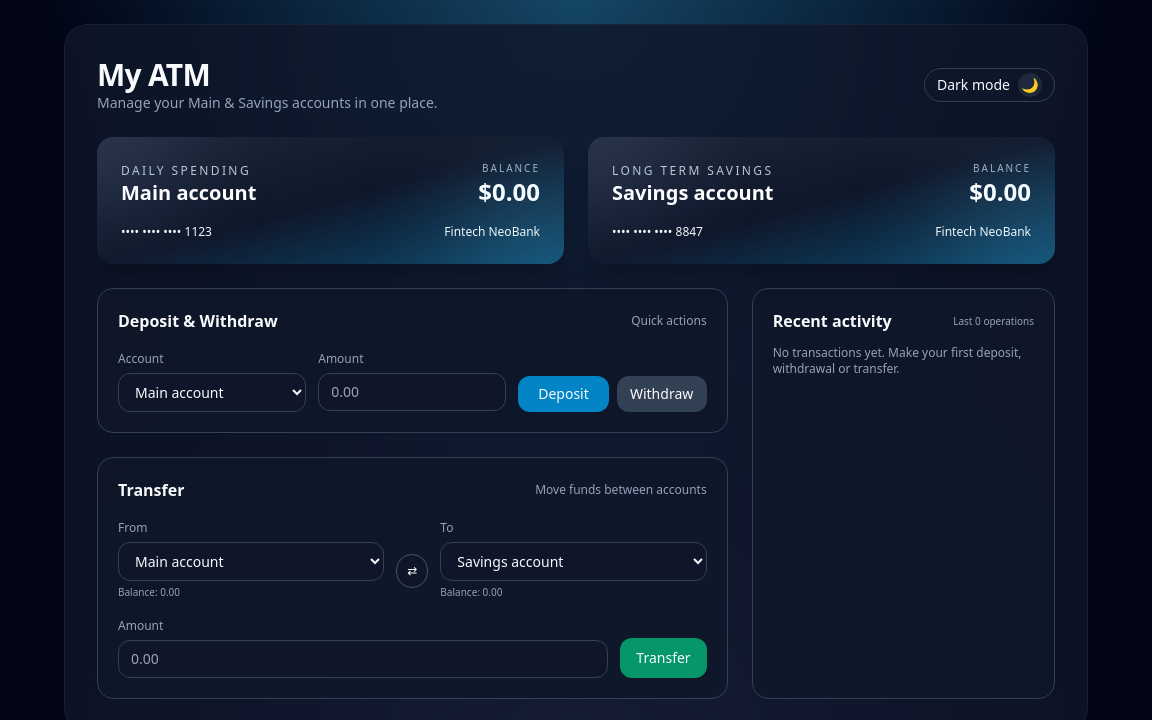
Automaticaly recorded tests › Deposit
Type "100" into the number field with test id "operation-amount-input".
click(412, 392); type("100")  # box [318,373,506,411]
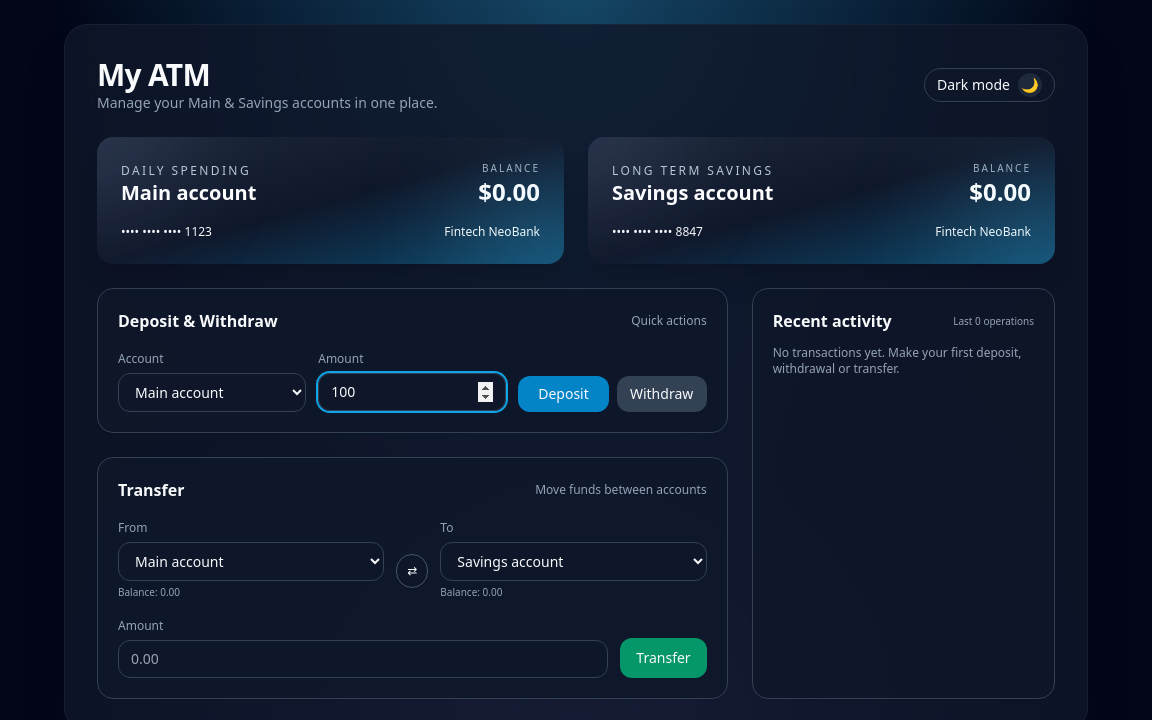
Click the button with test id "deposit-btn".
click(563, 394)  # box [518,376,608,412]
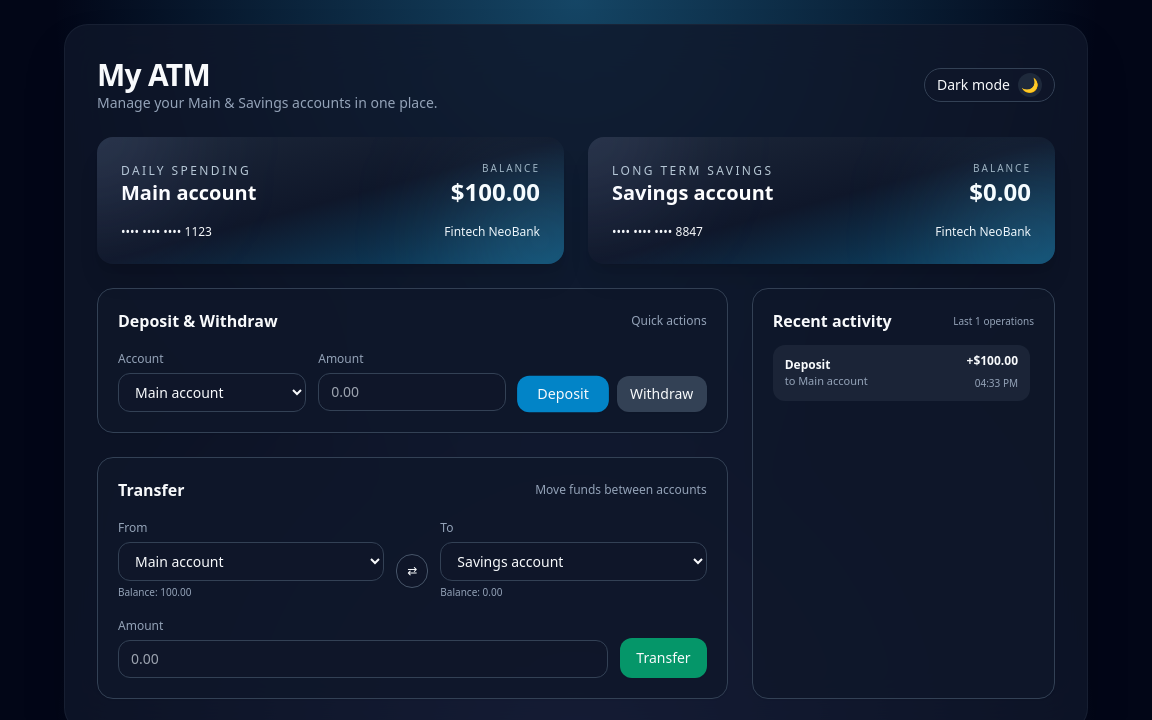
expect the text with test id "balance-main" reads "$100.00": met, box [451,176,540,208]
expect the text with class "block" reads "+$100.00": met, box [967,353,1019,369]
expect the text "to Main account" is shown: met, box [785,373,868,389]
